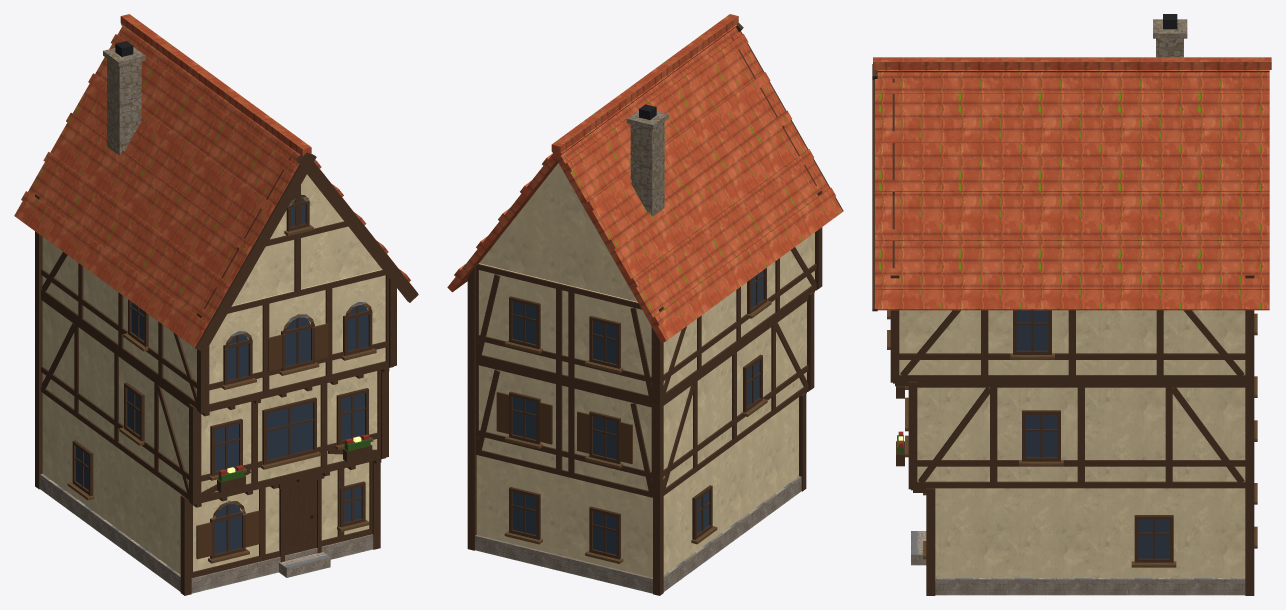
Rendered from tall_house.glb.
The picture shows the model from 3 angles, left to right: view 1: azimuth 30°, elevation 25°; view 2: azimuth 150°, elevation 25°; view 3: azimuth 270°, elevation 25°; orthographic projection. The views are drawn at different scales.
Parts seen in each view (by area): view 1: tall_house; view 2: tall_house; view 3: tall_house.
Part boxes in pixels (x1,y1,x2,y2): tall_house: (14, 14, 418, 595); tall_house: (447, 14, 843, 595); tall_house: (872, 14, 1271, 595).
Bounding box in the file's own units: 7.1 × 13.87 × 10.02.
Materials: 11 (5 with a texture image).
